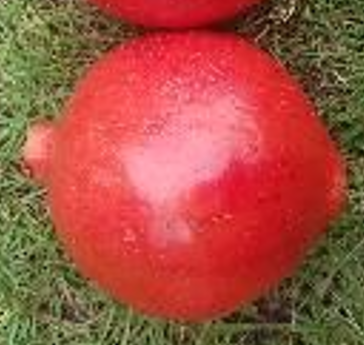pomegranate_A: (20, 31, 352, 326)
